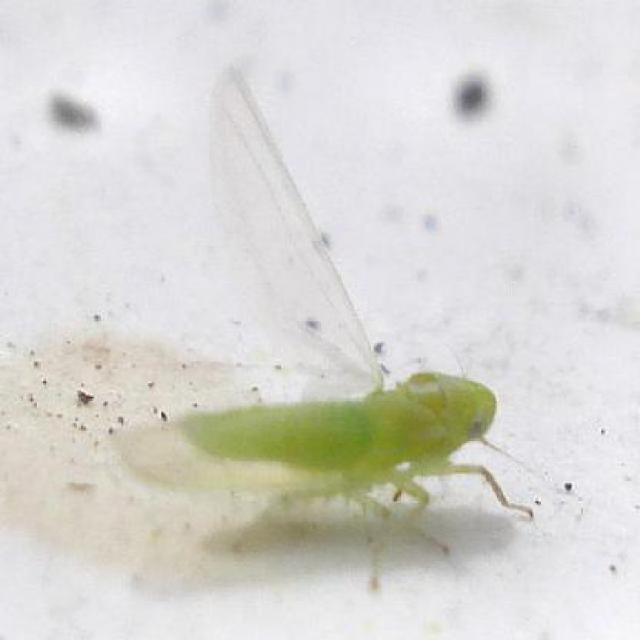green-leafhopper: (119, 366, 503, 545)
